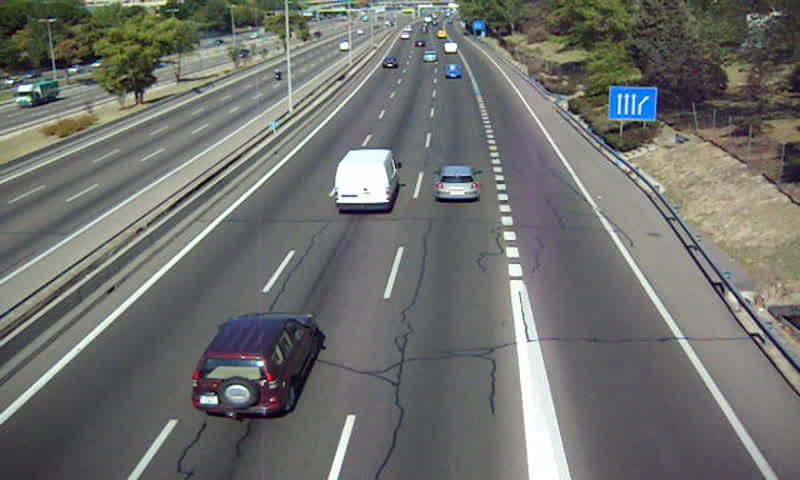car: (192, 315, 320, 416), (434, 165, 481, 200), (443, 62, 462, 79), (420, 48, 440, 63), (381, 57, 398, 70)
van: (334, 150, 399, 213)
